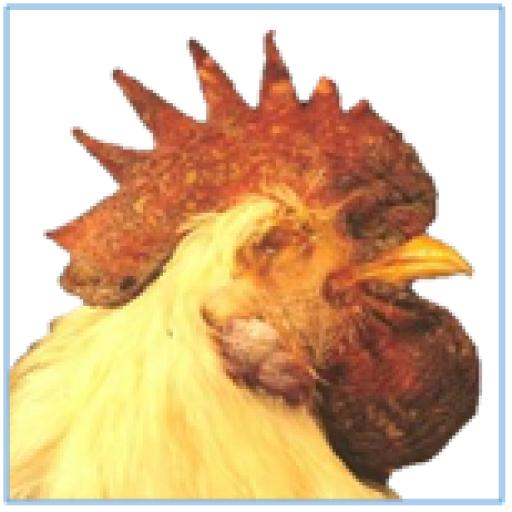disease: (286, 87, 441, 276), (226, 200, 317, 298)
